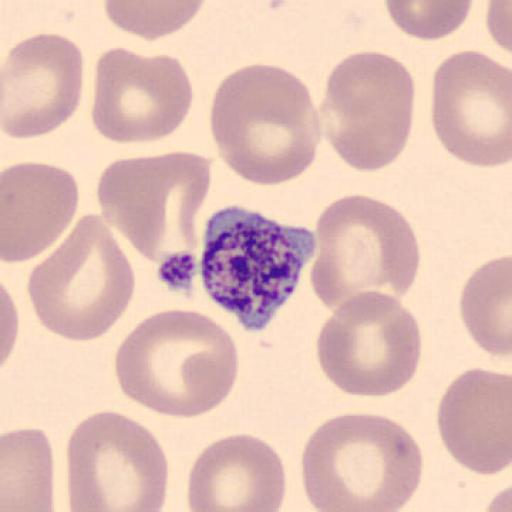Platelet: (194, 205, 317, 332), (152, 247, 202, 296)
RBC: (208, 62, 324, 188), (26, 212, 136, 344), (113, 307, 241, 419), (309, 192, 421, 316), (97, 150, 212, 265), (301, 410, 424, 512), (318, 50, 416, 173), (315, 288, 423, 398), (65, 409, 170, 512), (91, 46, 195, 144), (429, 47, 512, 169), (2, 31, 85, 140), (436, 366, 512, 476), (96, 153, 171, 264), (2, 160, 80, 265), (186, 431, 287, 512), (458, 254, 512, 360), (0, 426, 54, 512), (103, 0, 207, 42), (384, 0, 475, 42), (1, 280, 20, 366), (483, 458, 512, 511), (485, 0, 512, 52), (483, 478, 512, 511)
